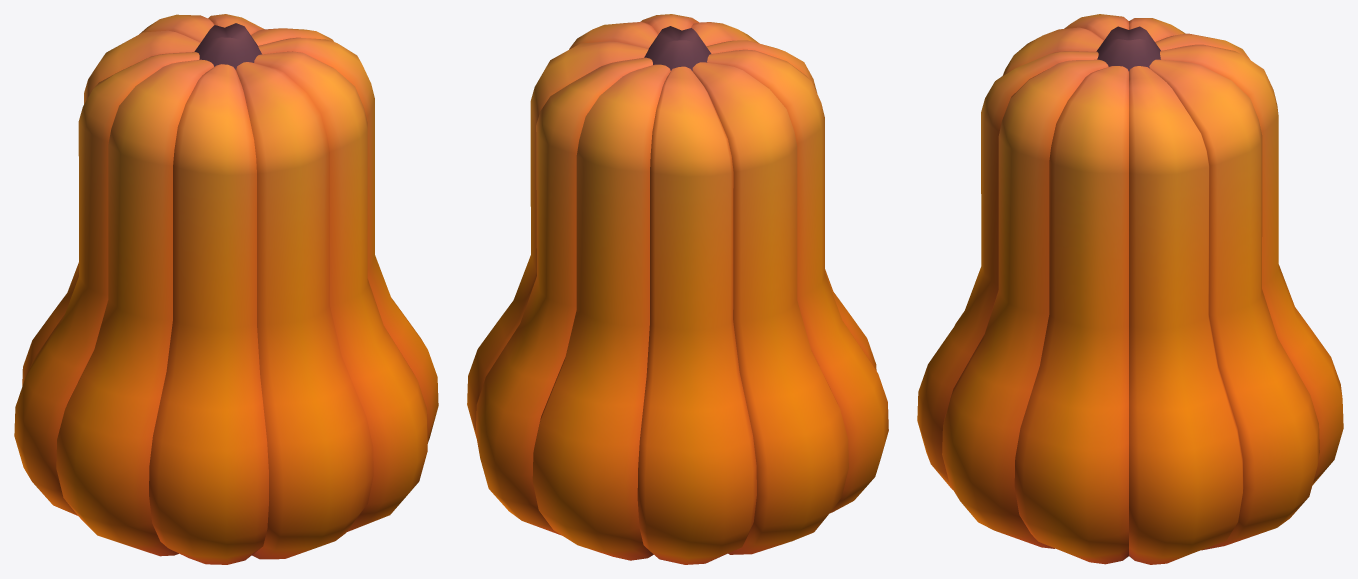
The model's file is Butternut_Squash.fbx.
3 views of the same model, side by side, from view 1: azimuth 30°, elevation 25°; view 2: azimuth 150°, elevation 25°; view 3: azimuth 270°, elevation 25° (orthographic).
Visible parts, largest first — view 1: Butternut_Squash; view 2: Butternut_Squash; view 3: Butternut_Squash.
Boxes of the visible parts, left/top/right/bottom form: Butternut_Squash: left=14, top=14, right=438, bottom=564; Butternut_Squash: left=467, top=14, right=888, bottom=564; Butternut_Squash: left=917, top=14, right=1343, bottom=564.
Bounding box in the file's own units: 50.16 × 64.08 × 50.83.
